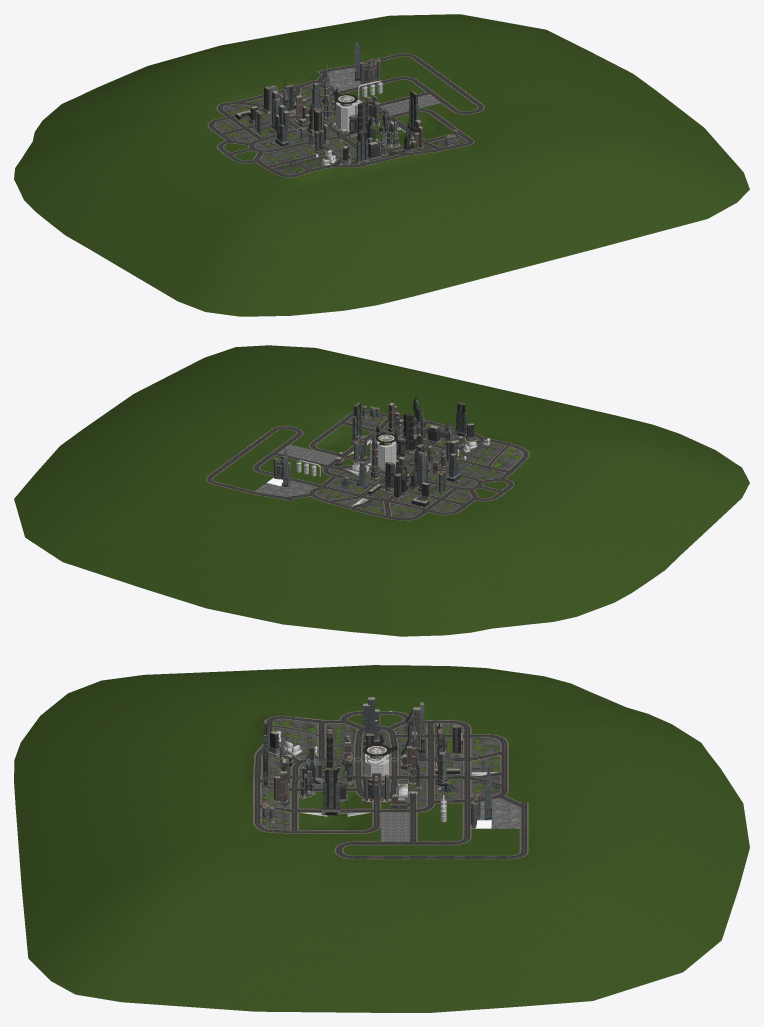
File: Rooftop .fbx
3 renders of one model, top to bottom at view 1: azimuth 30°, elevation 25°; view 2: azimuth 150°, elevation 25°; view 3: azimuth 270°, elevation 25°, orthographic. The views are drawn at different scales.
Parts seen in each view (by area): view 1: polySurface170, Env, StyleD-Building1, sky_scrape_25; view 2: polySurface170, Env, StyleD-Building1; view 3: polySurface170, Env, sky_scrape_34, sky_scrape_25.
Boxes of the visible parts, x1=… form: polySurface170: x1=14, y1=14, x2=749, y2=316; Env: x1=255, y1=59, x2=458, y2=164; StyleD-Building1: x1=333, y1=98, x2=362, y2=132; sky_scrape_25: x1=275, y1=104, x2=289, y2=146; polySurface170: x1=14, y1=345, x2=749, y2=636; Env: x1=273, y1=395, x2=477, y2=493; StyleD-Building1: x1=367, y1=440, x2=396, y2=470; polySurface170: x1=14, y1=665, x2=749, y2=1012; Env: x1=262, y1=715, x2=480, y2=828; sky_scrape_34: x1=321, y1=768, x2=340, y2=815; sky_scrape_25: x1=363, y1=697, x2=379, y2=745.
Bounding box in the file's own units: 633760 × 95376 × 566801.
